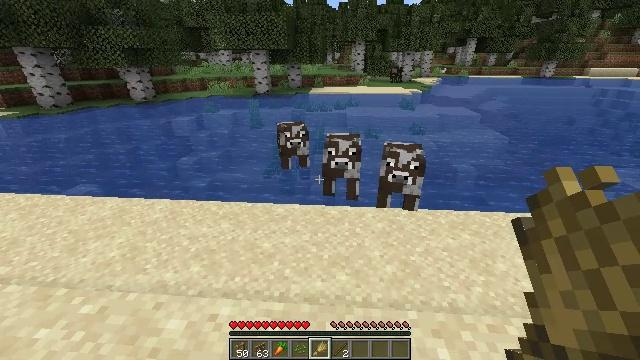cow: (376, 144, 423, 211), (319, 134, 361, 198), (277, 121, 309, 167), (390, 68, 403, 83)
